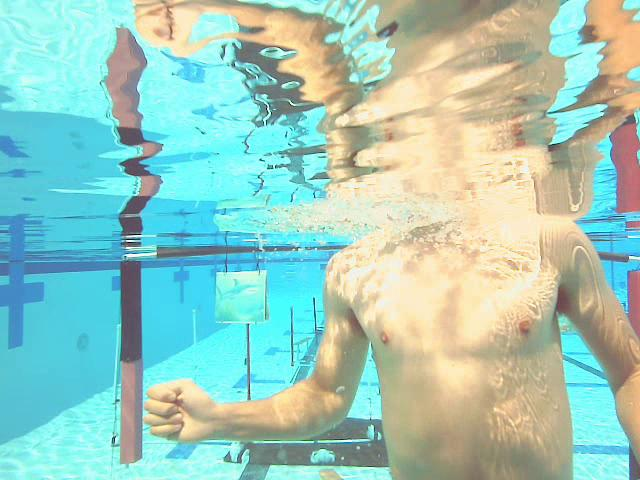black_poster: (290, 307, 294, 366), (246, 325, 249, 399), (313, 298, 316, 330)
left_gate_poster: (120, 263, 141, 463)
shark: (216, 270, 268, 324)
